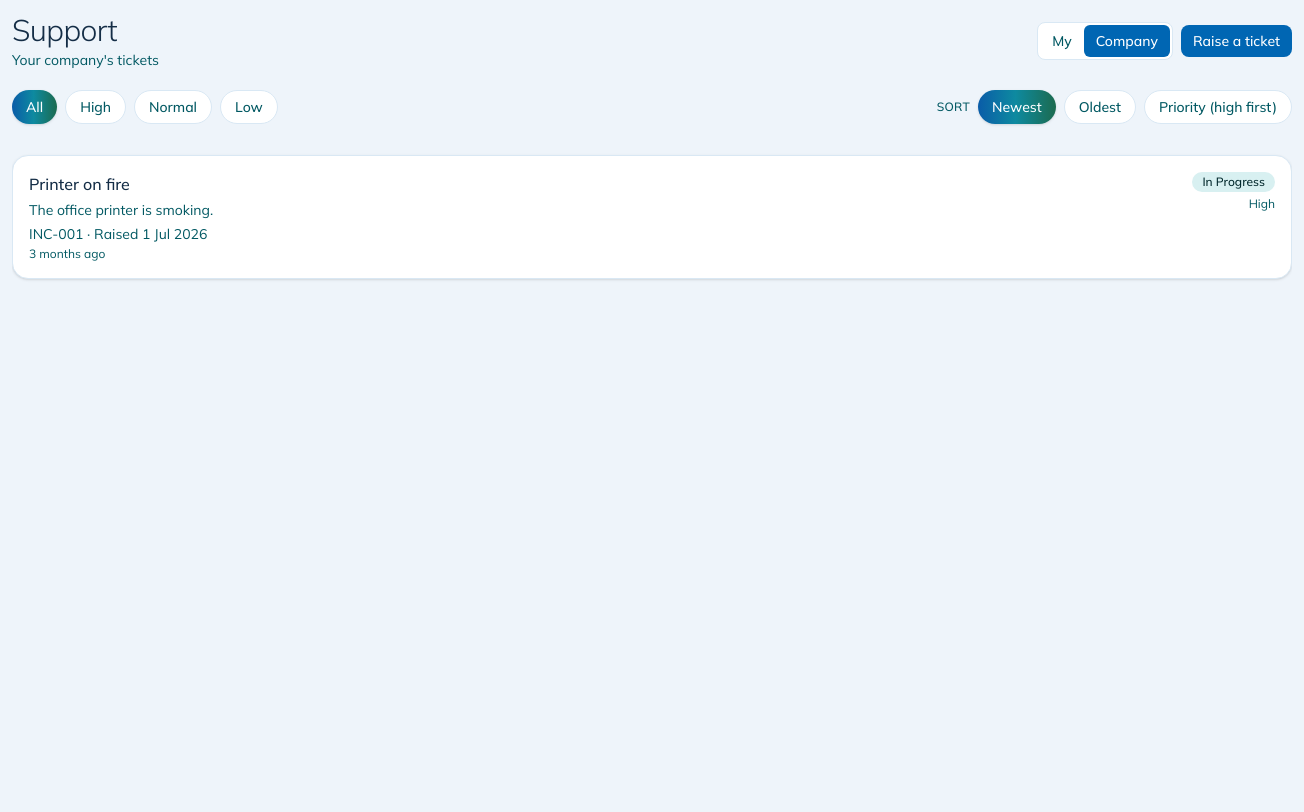
Test: CasesPage › raise a ticket › shows an error message when creating a case fails
Expected: the text "Printer on fire" is shown, [29,174,130,194]
Click the button "Raise a ticket". click: (1236, 41)
box: [1181,25,1292,57]
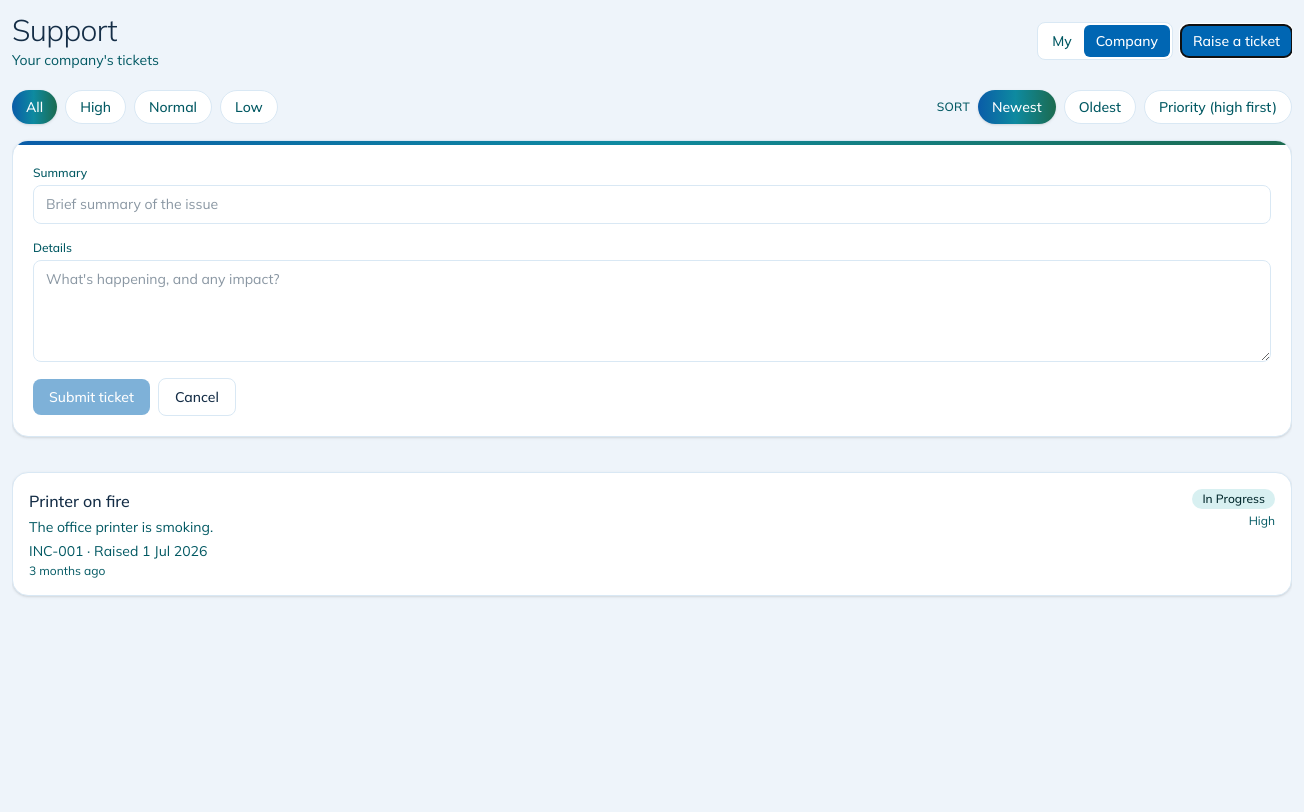
Type "Broken laptop" into the field with placeholder "Brief summary of the issue". click: (652, 204)
box: [33,185,1271,224]
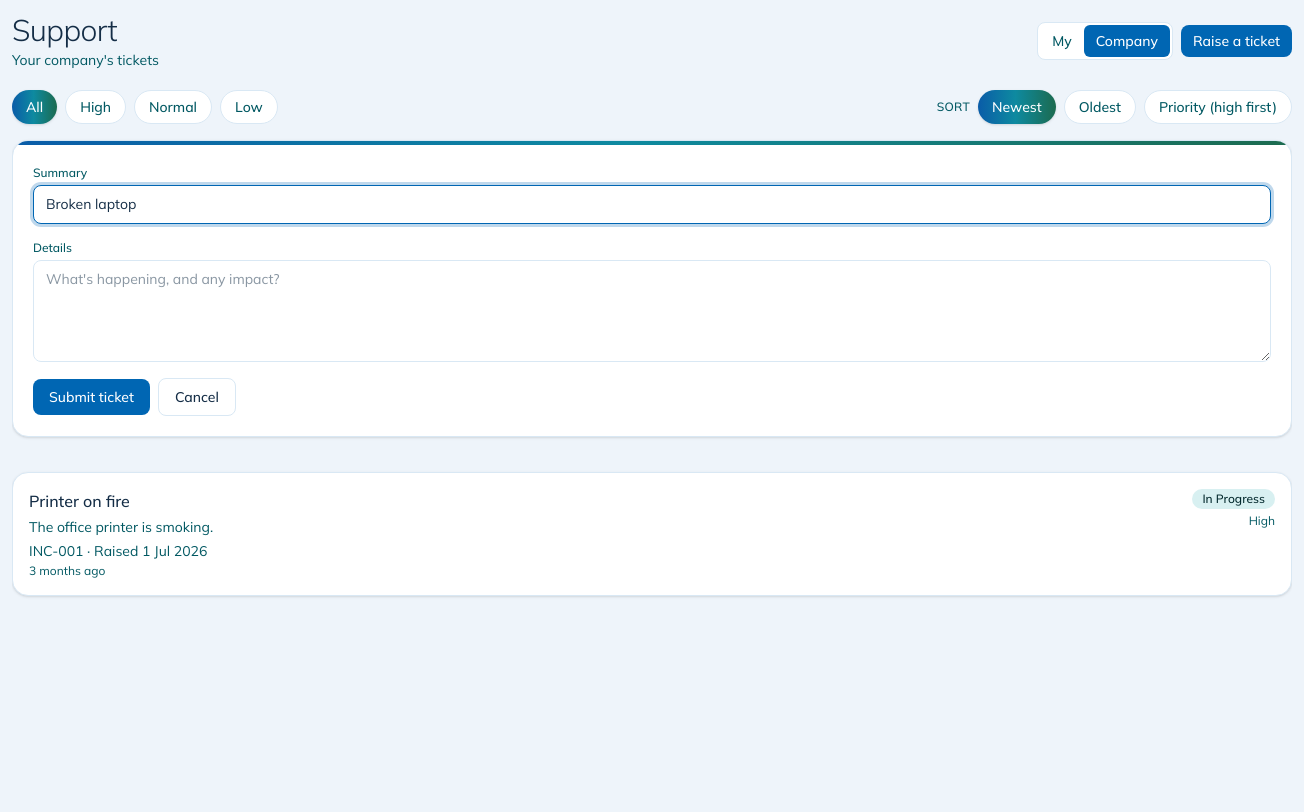
Click the button "Submit ticket". click: (92, 397)
box: [33,379,150,415]
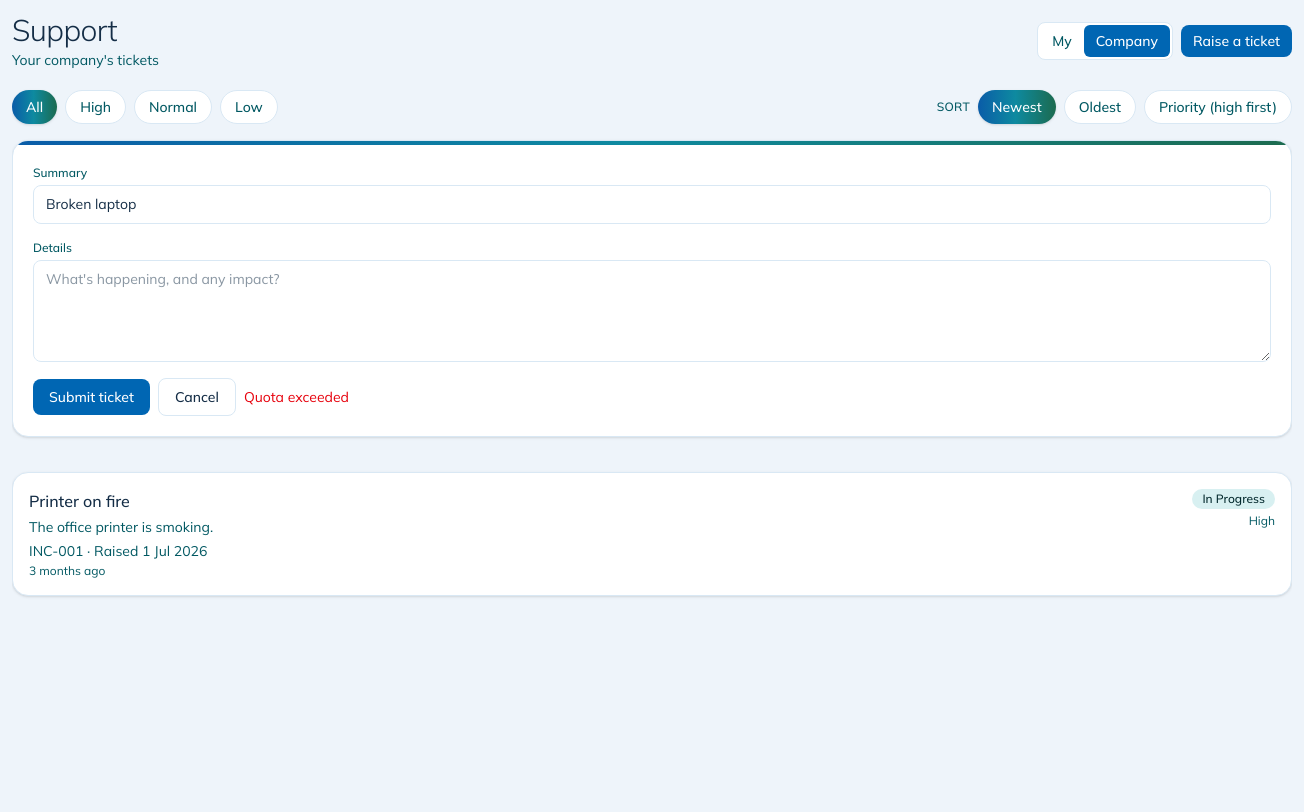
Expected: the text "Quota exceeded" is shown, [244,387,349,407]
